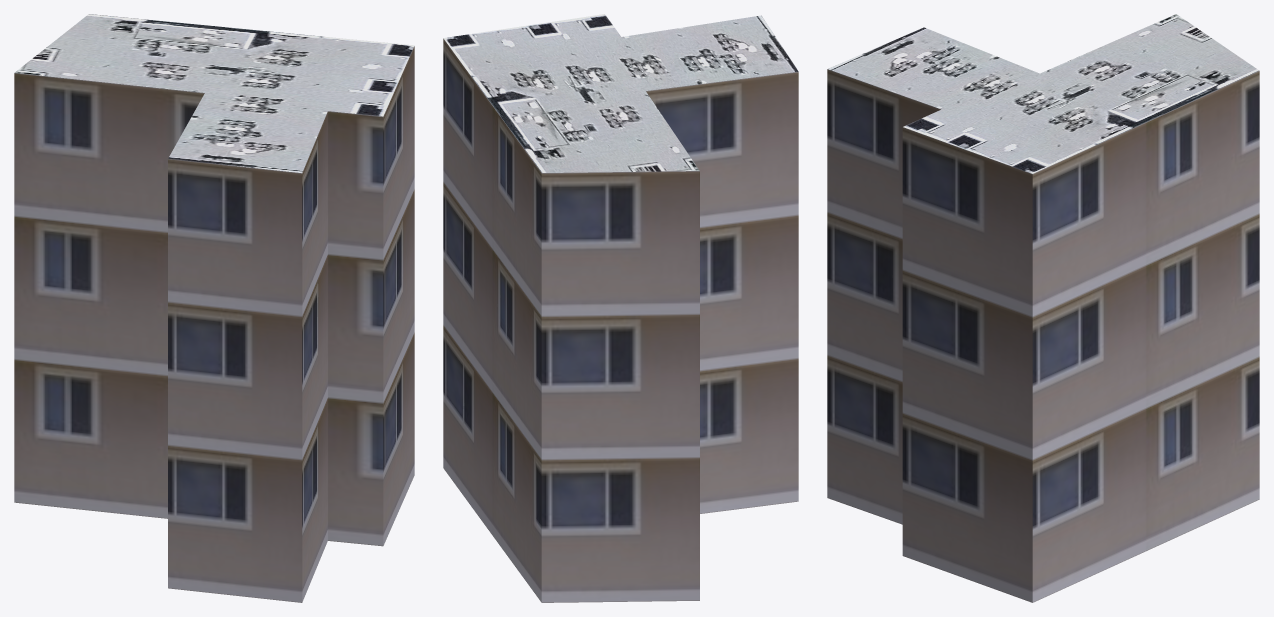
The model's file is ResTex__4097.fbx.
3 views of the same model, side by side, from view 1: azimuth 30°, elevation 25°; view 2: azimuth 150°, elevation 25°; view 3: azimuth 270°, elevation 25° (orthographic).
Parts seen in each view (by area): view 1: CityEngineMaterial_21_m, CityEngineMaterial_m; view 2: CityEngineMaterial_21_m, CityEngineMaterial_m; view 3: CityEngineMaterial_21_m, CityEngineMaterial_m.
Part boxes in pixels (x1,y1,x2,y2): CityEngineMaterial_21_m: [14, 46, 414, 602]; CityEngineMaterial_m: [14, 14, 414, 173]; CityEngineMaterial_21_m: [443, 38, 798, 602]; CityEngineMaterial_m: [443, 14, 798, 172]; CityEngineMaterial_21_m: [827, 69, 1259, 602]; CityEngineMaterial_m: [828, 14, 1259, 173].
Size of the model in its own units: 7.2 by 9 by 8.22.
2 materials, 2 textured.
